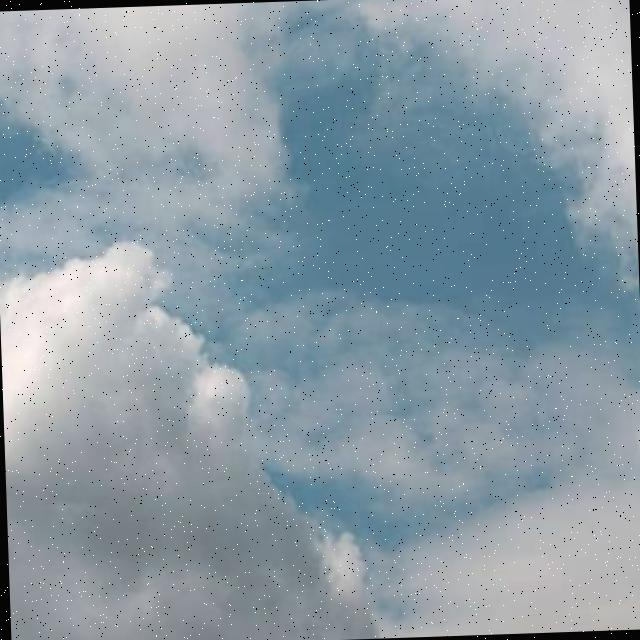As: (1, 228, 392, 640)
